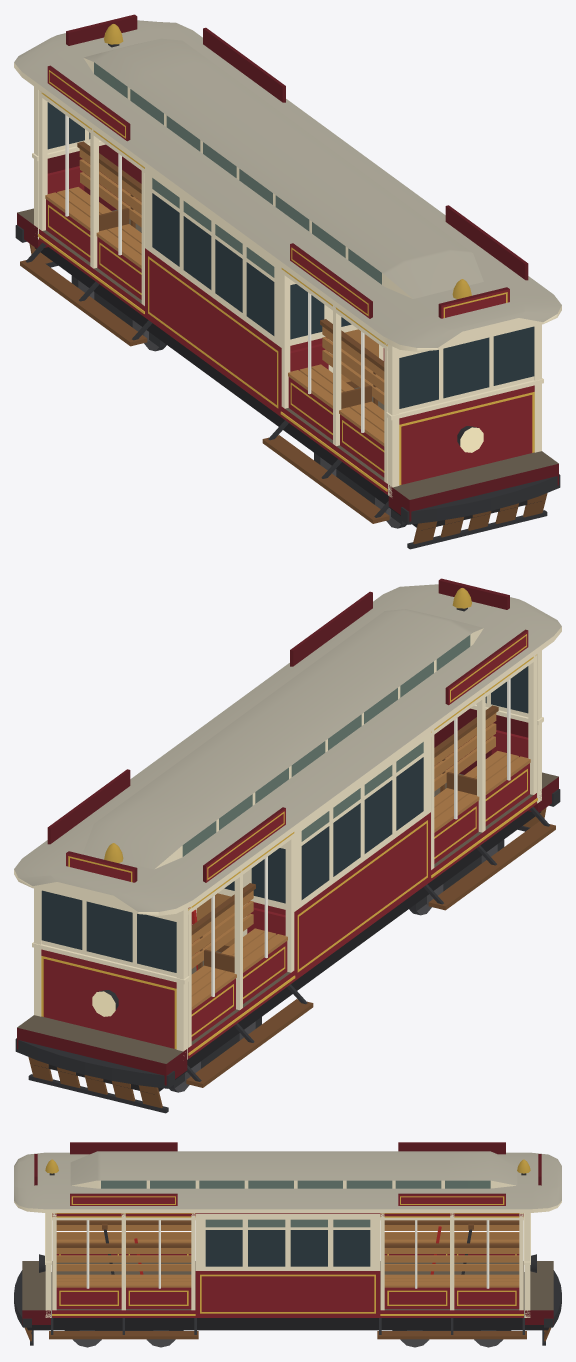
Rendered from sf_cable_car_california.glb.
3 renders of one model, top to bottom at view 1: azimuth 30°, elevation 25°; view 2: azimuth 150°, elevation 25°; view 3: azimuth 270°, elevation 25°, orthographic. The views are drawn at different scales.
Visible parts, largest first — view 1: sf_cable_car_california; view 2: sf_cable_car_california; view 3: sf_cable_car_california.
Part boxes in pixels (<box>): sf_cable_car_california: <box>14,14,561,549</box>; sf_cable_car_california: <box>14,578,561,1113</box>; sf_cable_car_california: <box>14,1142,561,1347</box>.
Bounding box in the file's own units: 2.4 × 3.2 × 9.2.
Materials: 1 (1 with a texture image).
